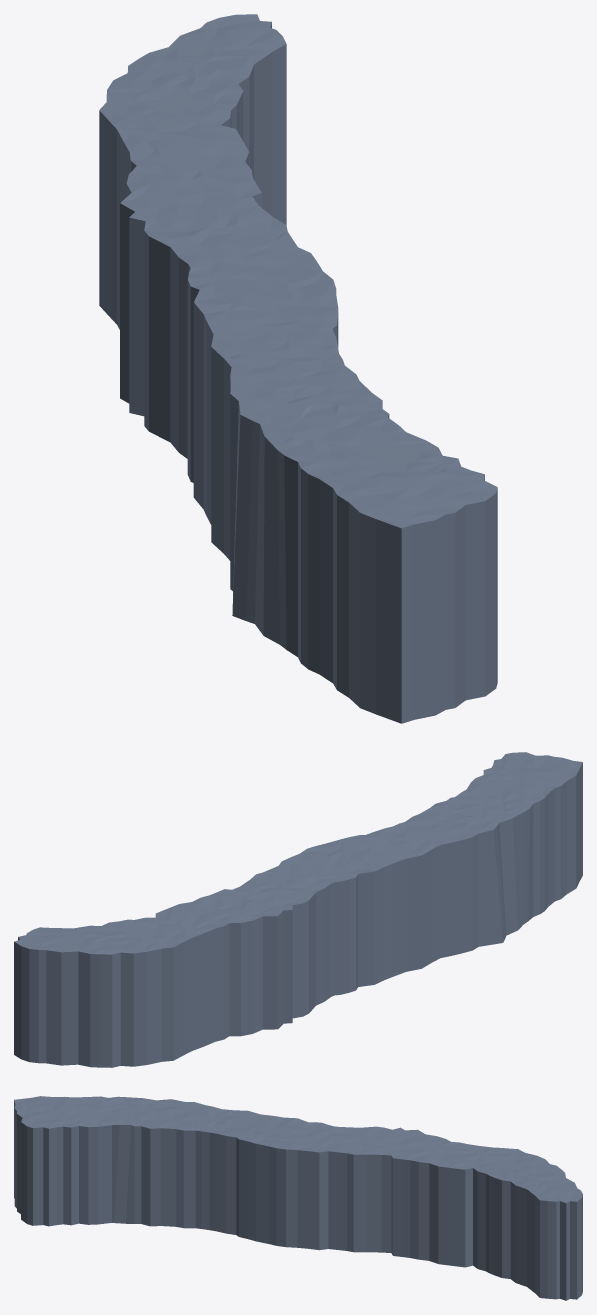
The model's file is Knight-River.fbx.
3 views of the same model, one above another, from view 1: azimuth 30°, elevation 25°; view 2: azimuth 150°, elevation 25°; view 3: azimuth 270°, elevation 25° (orthographic). The views are drawn at different scales.
Visible parts, largest first — view 1: polySurface240; view 2: polySurface240; view 3: polySurface240.
Boxes of the visible parts, x1,y1,x2,y2 form: polySurface240: [99, 14, 497, 723]; polySurface240: [14, 752, 582, 1067]; polySurface240: [14, 1096, 582, 1300].
Size of the model in its own units: 35.63 by 15.23 by 80.14.
